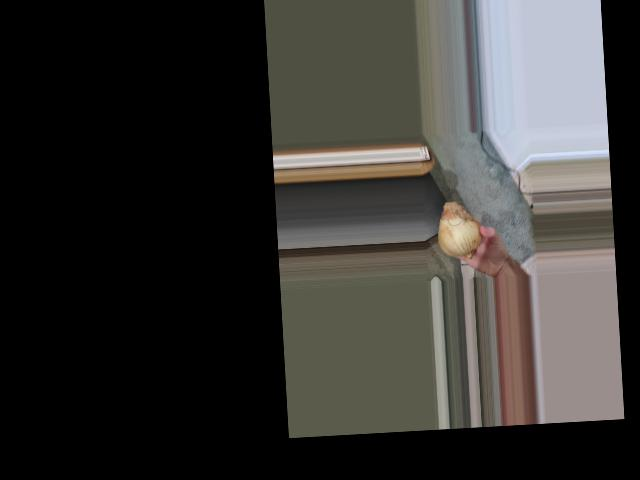onion: (438, 198, 484, 256)
